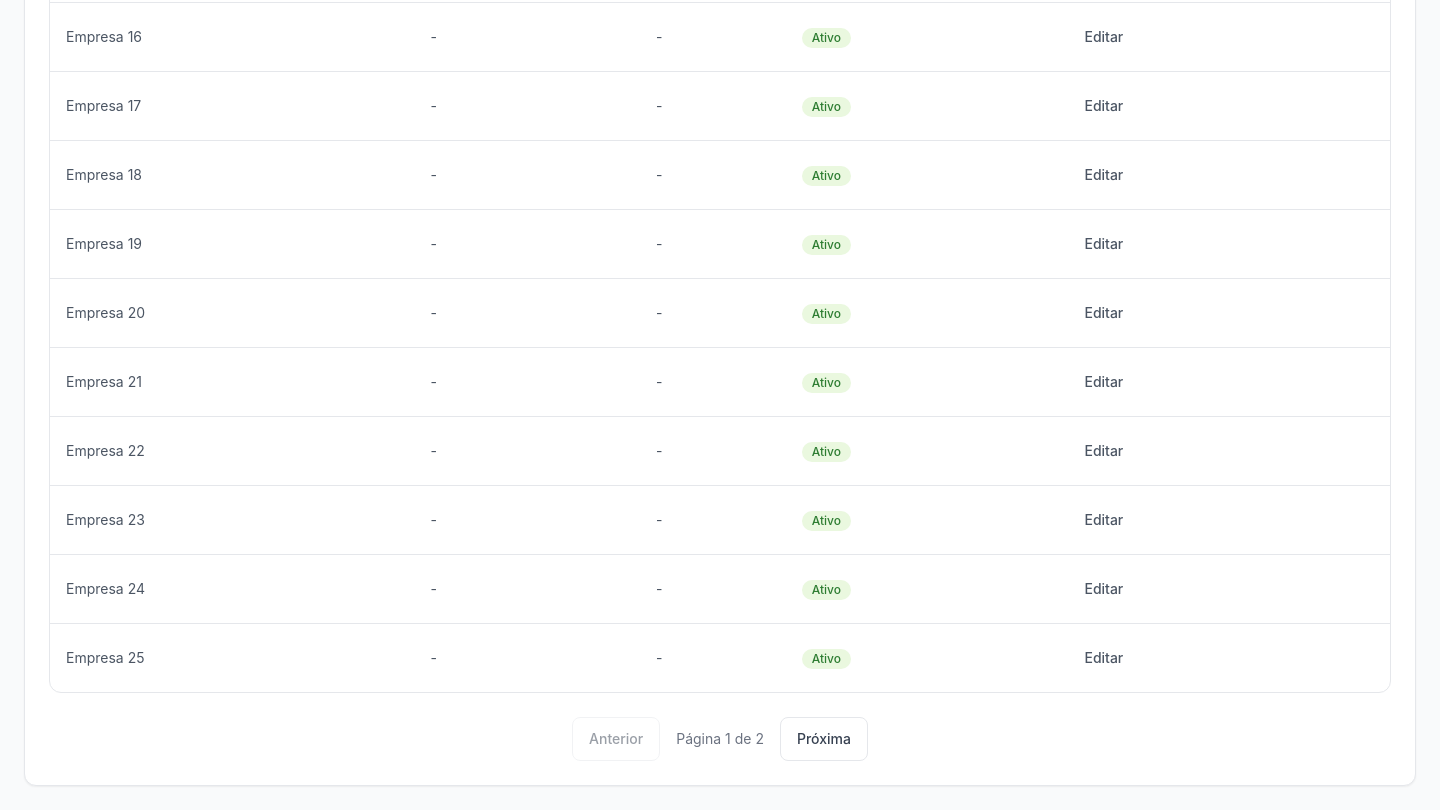
CompaniesPage › paginates with many companies
This screenshot has width=1440, height=810.
(page scrolled)
Expected: the text "Página 1 de 2" is shown, [676,729,764,749]
Click the button "Próxima" at (824, 739), box [780,717,868,761]
(page scrolled)
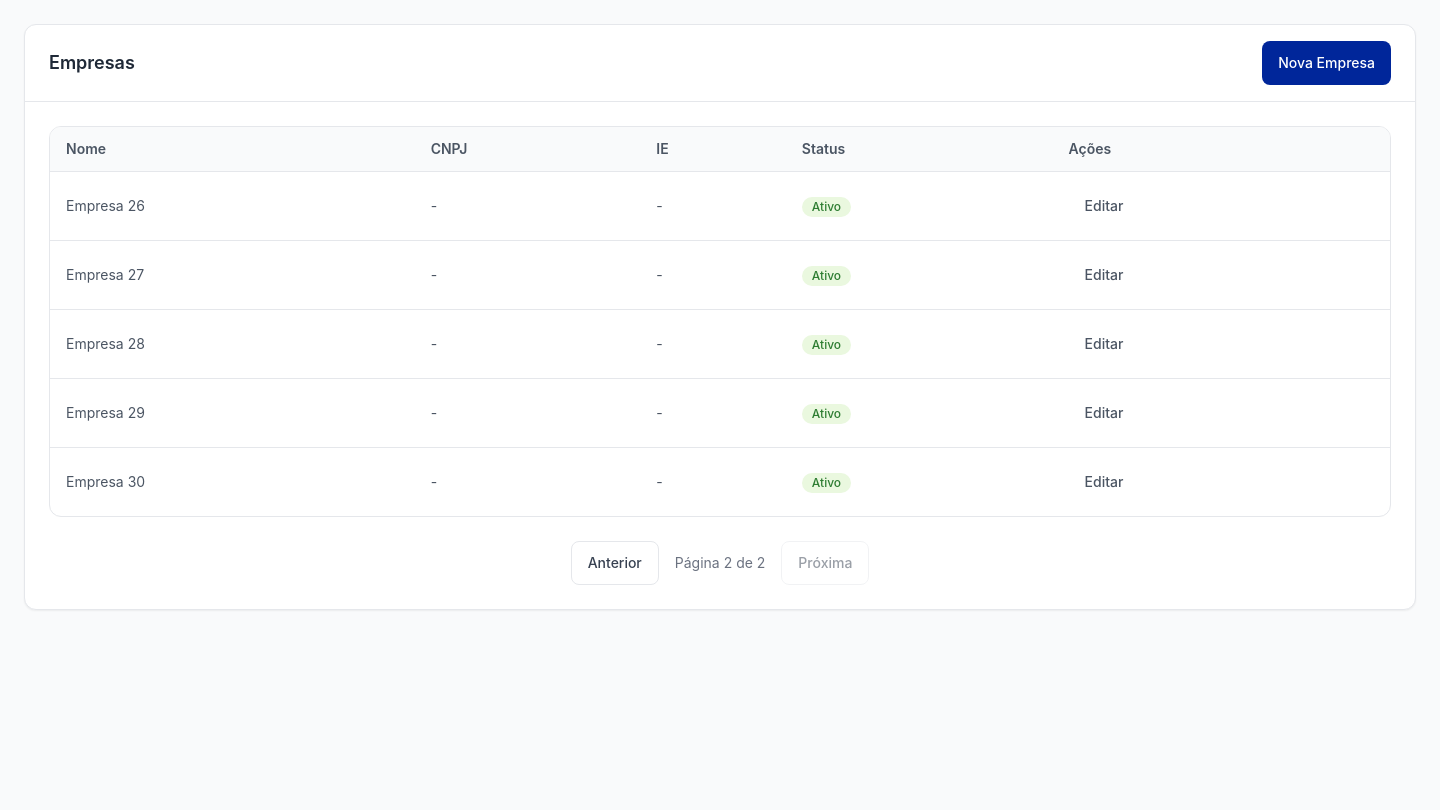
Result: the text "Empresa 26" is shown at [50,172,415,240]
Result: the text "Página 2 de 2" is shown at [675,553,765,573]
